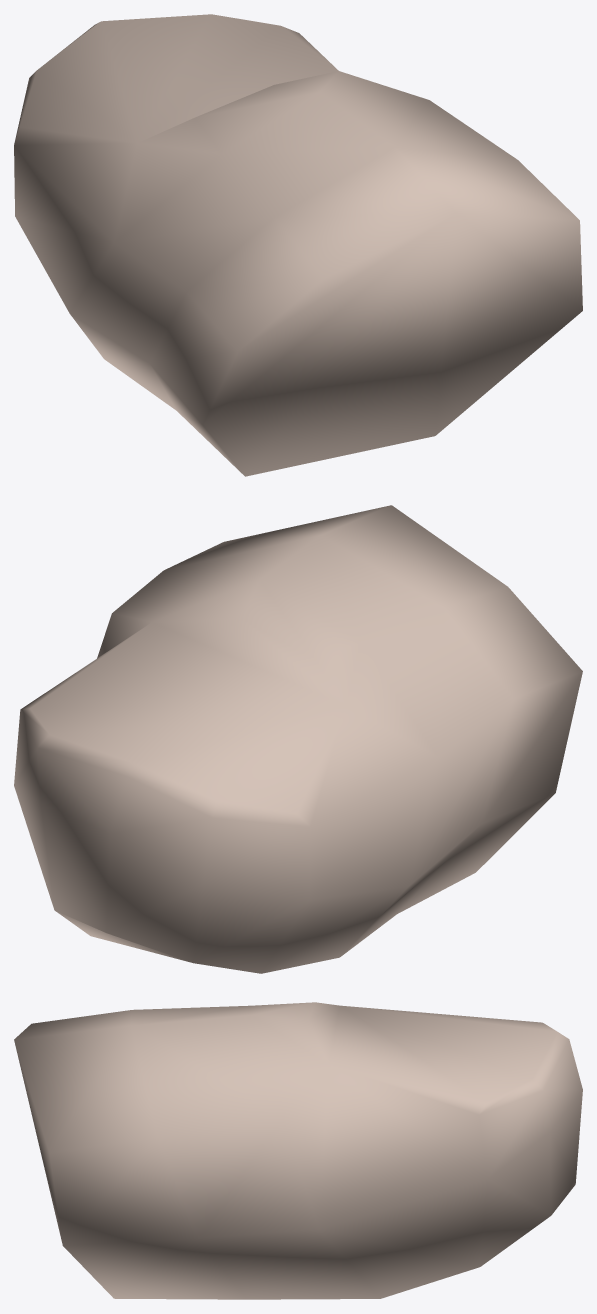
Rendered from LMiddle3rdPhalange.dae.
3 views of the same model, one above another, from view 1: azimuth 30°, elevation 25°; view 2: azimuth 150°, elevation 25°; view 3: azimuth 270°, elevation 25° (orthographic). The views are drawn at different scales.
Parts seen in each view (by area): view 1: ShapeIndexedFaceSet; view 2: ShapeIndexedFaceSet; view 3: ShapeIndexedFaceSet.
Boxes of the visible parts, box(x1,y1,x2,y2) form: ShapeIndexedFaceSet: box(14, 14, 582, 476); ShapeIndexedFaceSet: box(14, 505, 582, 973); ShapeIndexedFaceSet: box(14, 1002, 582, 1299).
Bounding box in the file's own units: 0.0159 × 0.0242 × 0.0126.
